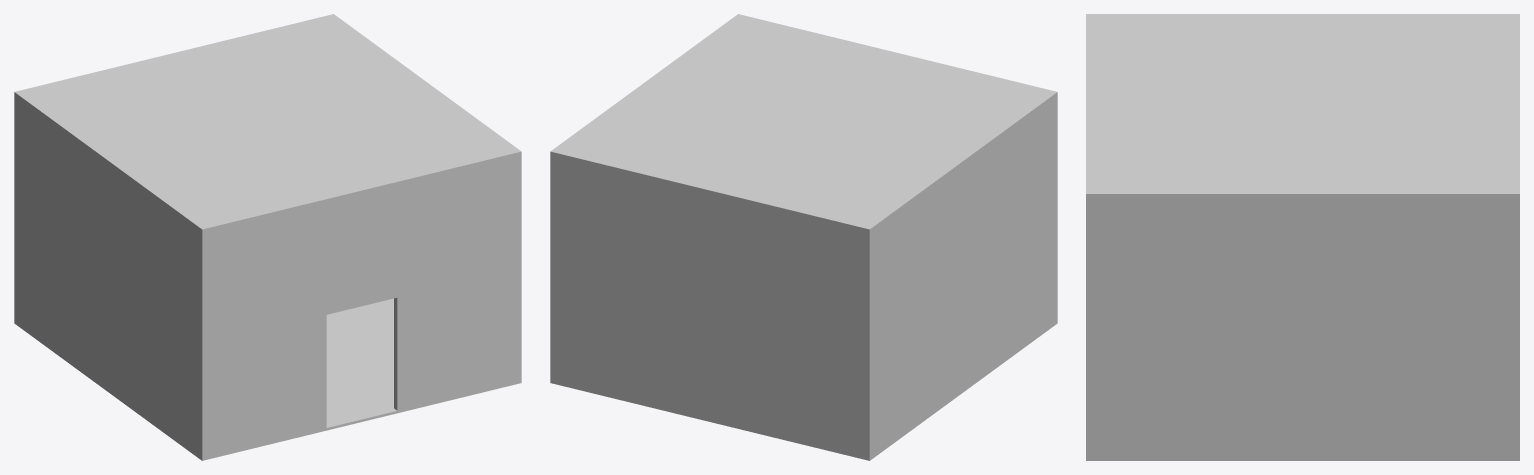
The model's file is salle-ens-art.fbx.
3 renders of one model, left to right at view 1: azimuth 30°, elevation 25°; view 2: azimuth 150°, elevation 25°; view 3: azimuth 270°, elevation 25°, orthographic. The views are drawn at different scales.
Visible parts, largest first — view 1: Plane; view 2: Plane; view 3: Plane.
Boxes of the visible parts, x1,y1,x2,y2 form: Plane: [14, 14, 521, 460]; Plane: [550, 14, 1057, 460]; Plane: [1086, 14, 1519, 460].
Bounding box in the file's own units: 921 × 638 × 939.
1 material, 1 textured.
